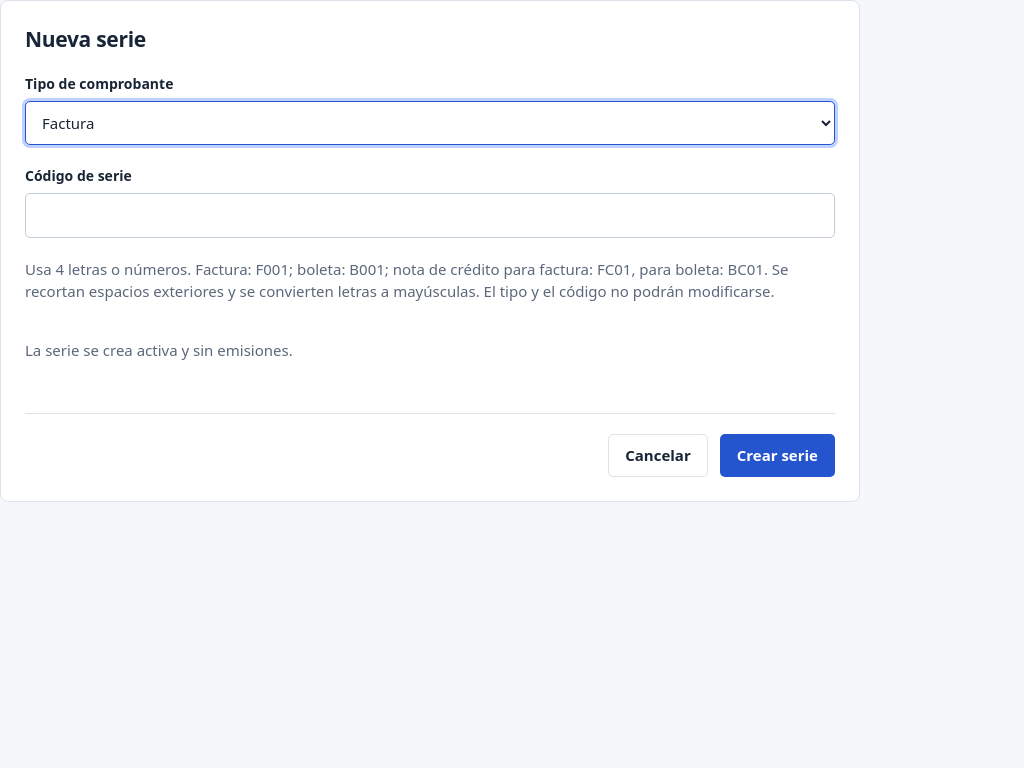
Test: gestiona error 403 y permite reintentar
This screenshot has width=1024, height=768.
Type "F001" into the field labelled "Código de serie" at (430, 216), box [25, 193, 835, 238]
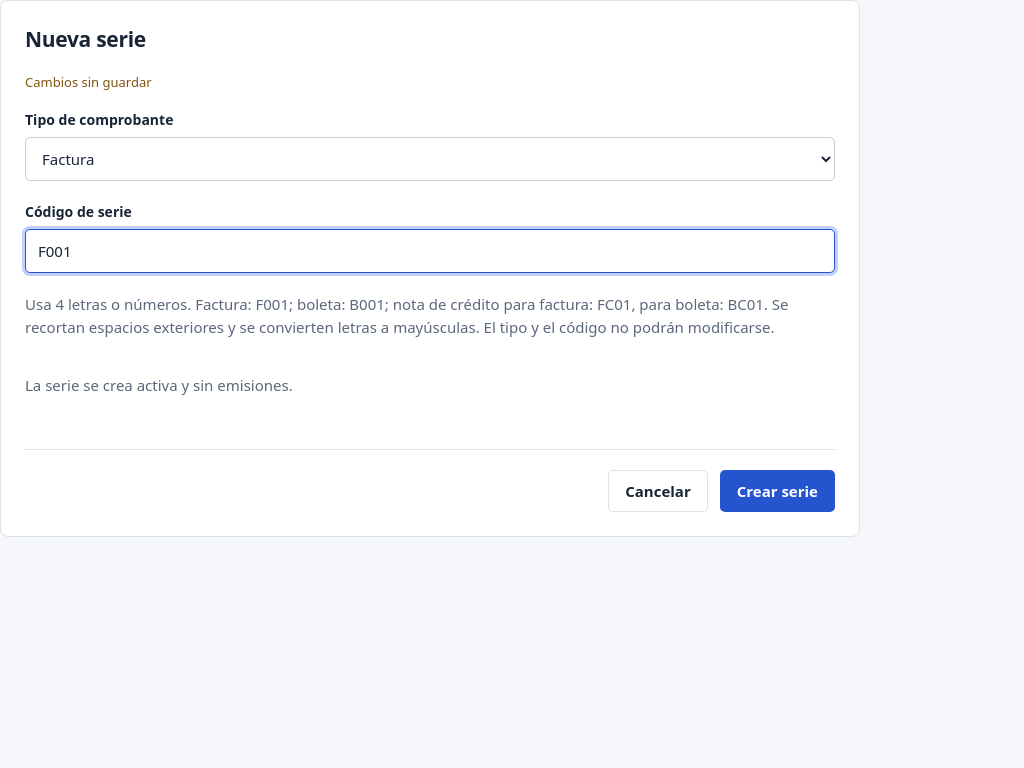
Click the button "Crear serie" at (777, 491), box [720, 470, 835, 512]
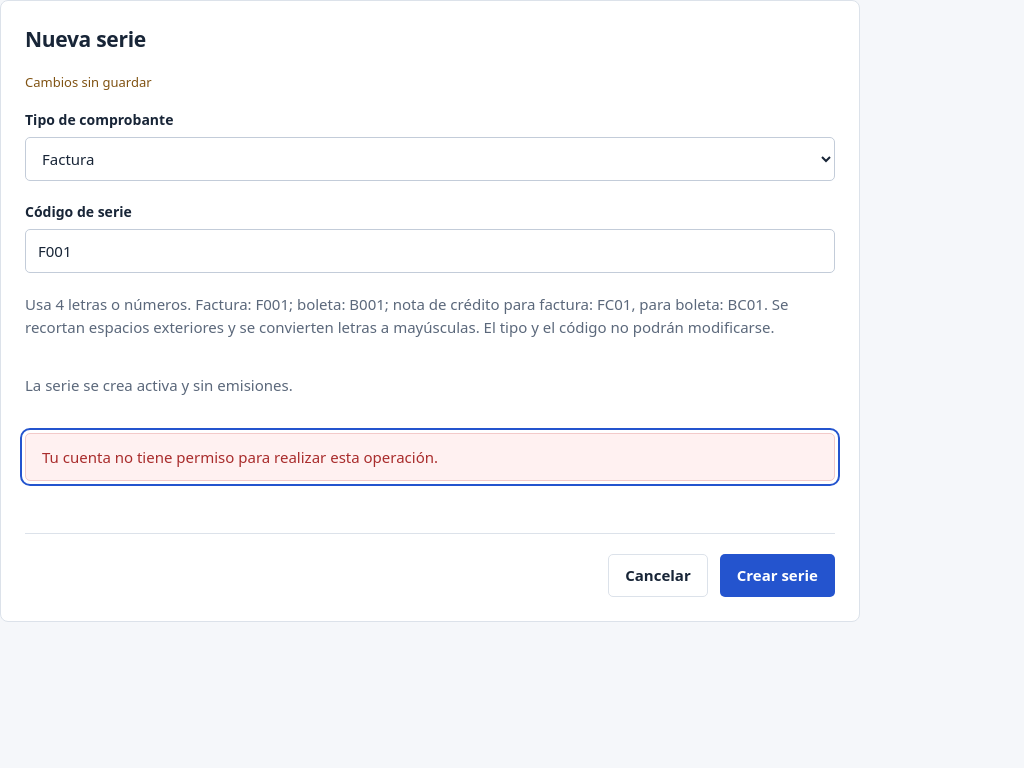
expect the button "Crear serie" is enabled: met, box [720, 554, 835, 597]
expect the message "Tu cuenta no tiene permiso para realizar esta operación." is shown: met, box [25, 433, 835, 481]
